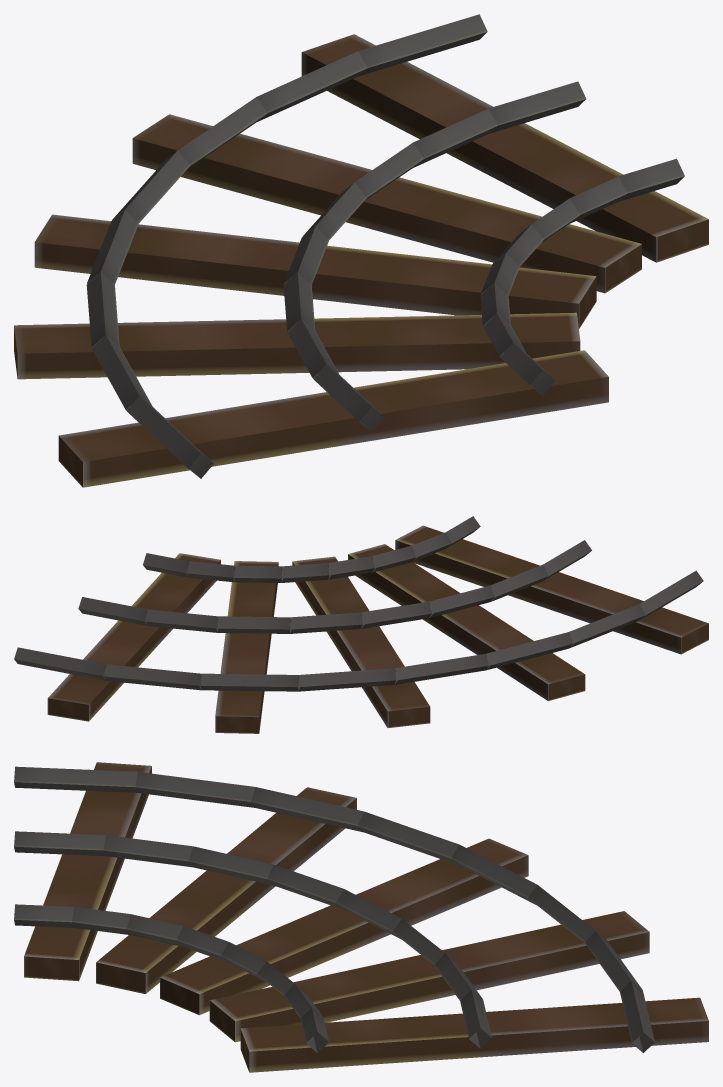
Rendered from track_curve.obj.
The picture shows the model from 3 angles, top to bottom: view 1: azimuth 30°, elevation 25°; view 2: azimuth 150°, elevation 25°; view 3: azimuth 270°, elevation 25°; orthographic projection. The views are drawn at different scales.
Parts seen in each view (by area): view 1: track_curve; view 2: track_curve; view 3: track_curve.
Part boxes in pixels (x1,y1,x2,y2): track_curve: (14,14,708,487); track_curve: (14,516,708,733); track_curve: (14,762,708,1072).
Bounding box in the file's own units: 1.49 × 0.115 × 1.49.
Materials: 1 (1 with a texture image).
